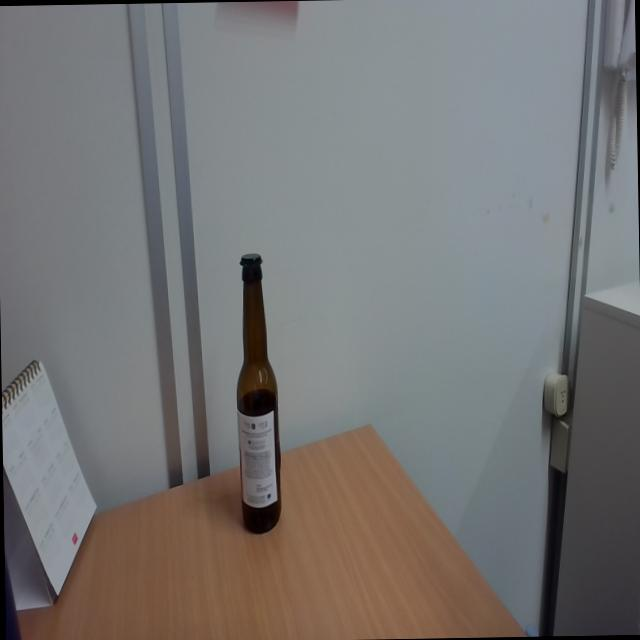Bottle: (233, 253, 282, 534)
Cap: (235, 252, 268, 270)
Label: (238, 410, 274, 506)
